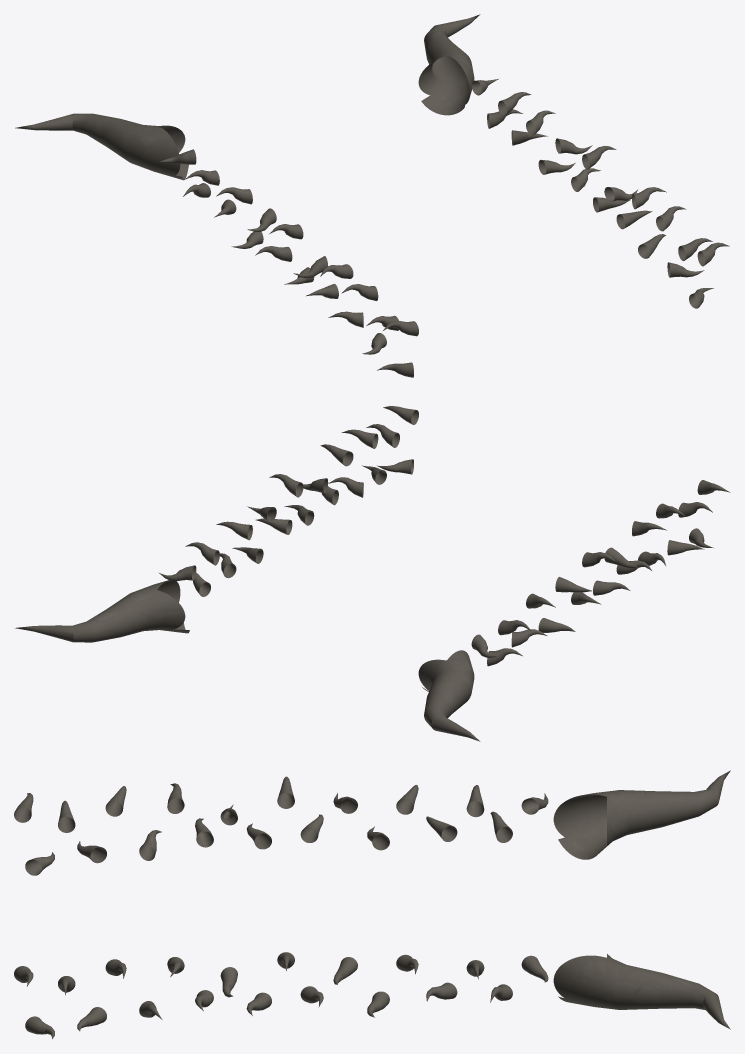
Rendered from newpinball_sototoge.fbx.
The picture shows the model from 3 angles, top to bottom: view 1: azimuth 30°, elevation 25°; view 2: azimuth 150°, elevation 25°; view 3: azimuth 270°, elevation 25°; orthographic projection. The views are drawn at different scales.
Visible parts, largest first — view 1: sototoge; view 2: sototoge; view 3: sototoge.
Part boxes in pixels (x1=…): sototoge: x1=15, y1=14, x2=729, y2=377; sototoge: x1=15, y1=406, x2=730, y2=741; sototoge: x1=14, y1=770, x2=730, y2=1038.
Bounding box in the file's own units: 360 × 55.74 × 420.
